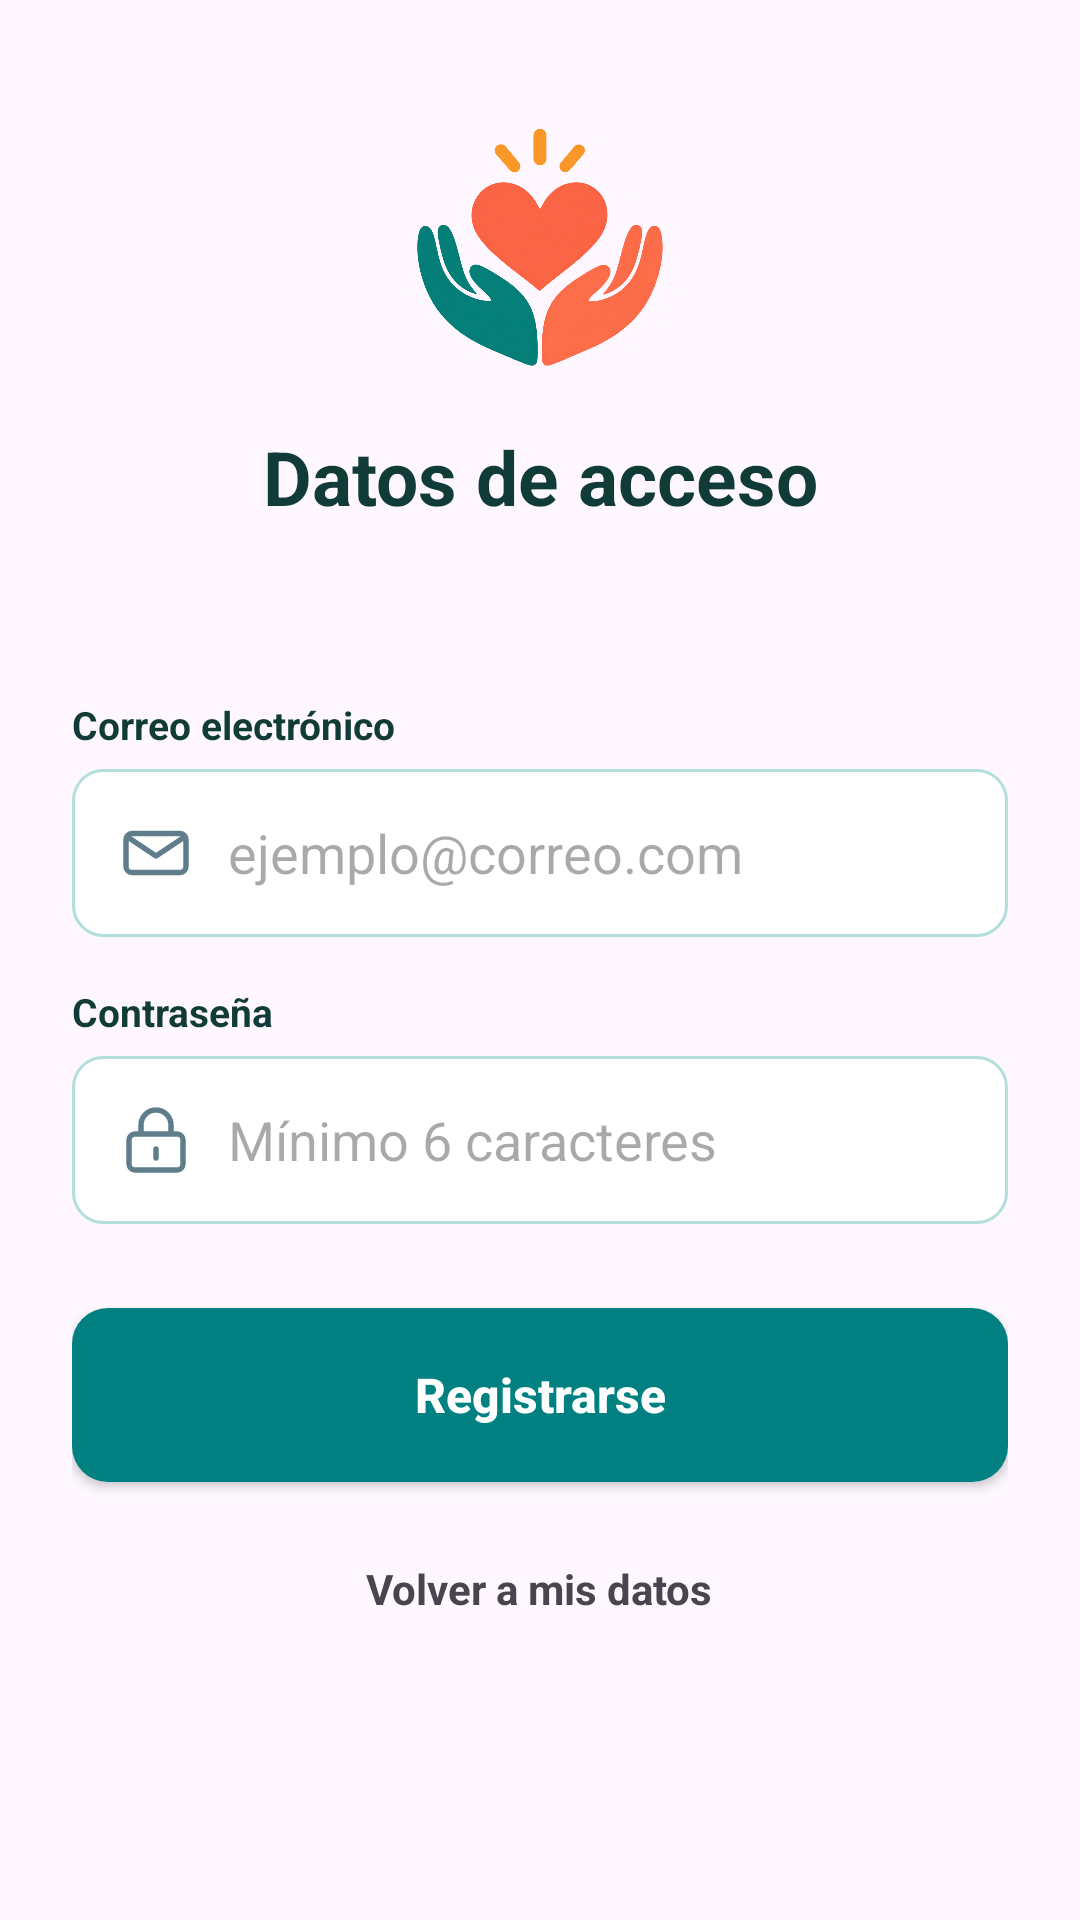

Screen size 1080w x 1920h. Icon name, then its center in pixels as point (x, y):
Manos Solidarias: point (540, 247)
